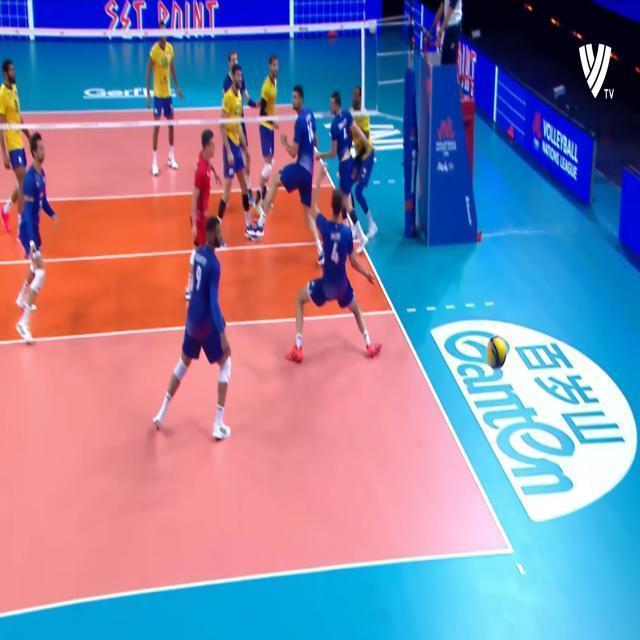volleyball: (488, 336, 507, 370)
